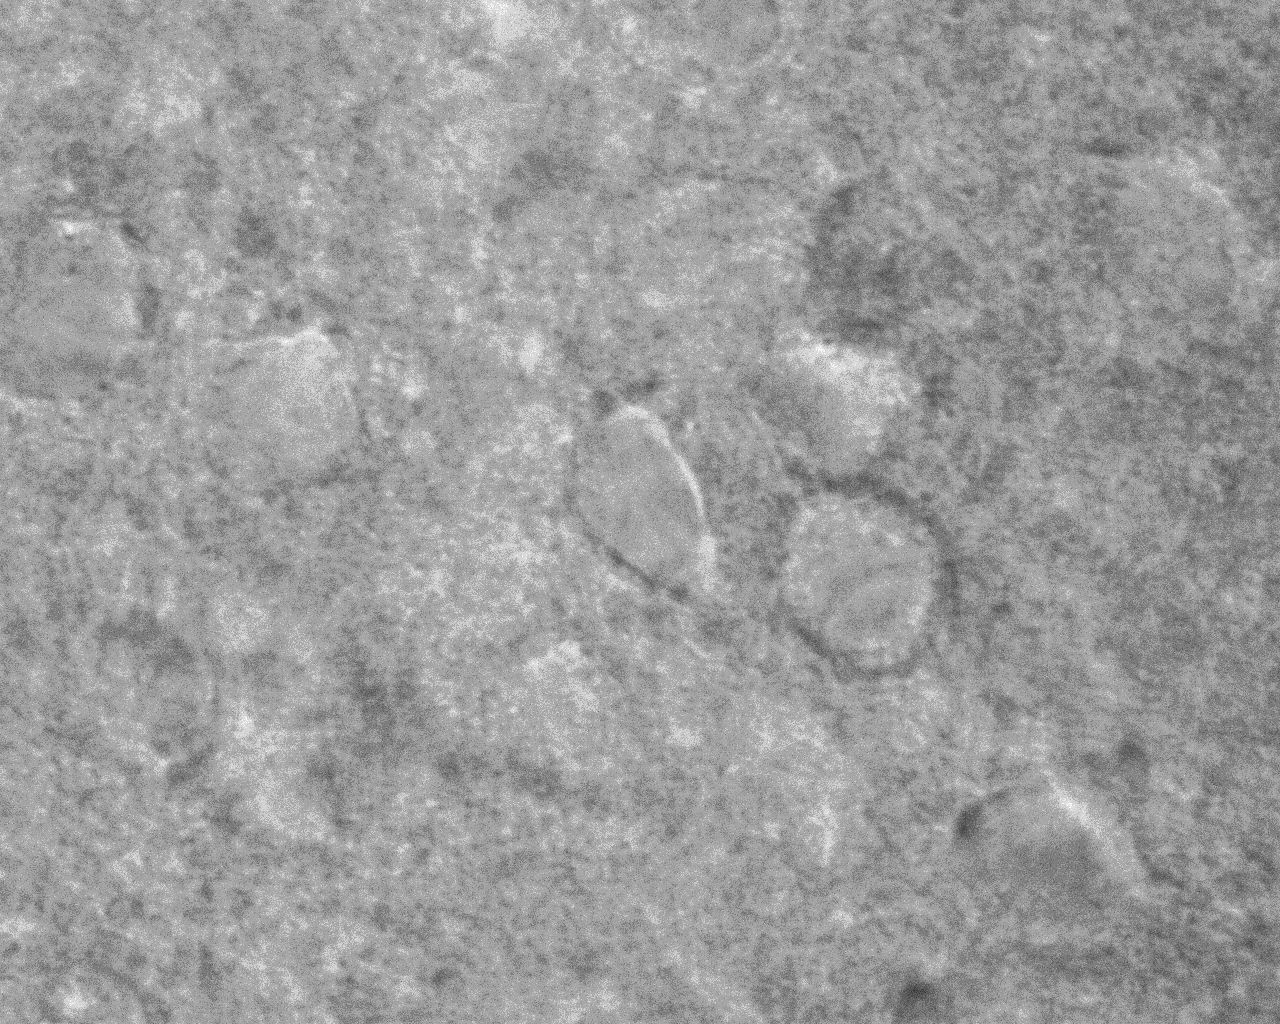neuron: (556, 390, 728, 614), (190, 325, 389, 512), (945, 765, 1146, 914), (745, 333, 914, 498)
